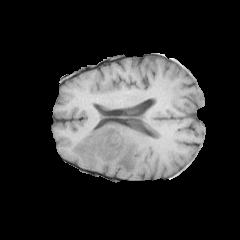glioma: (71, 124, 145, 173)
